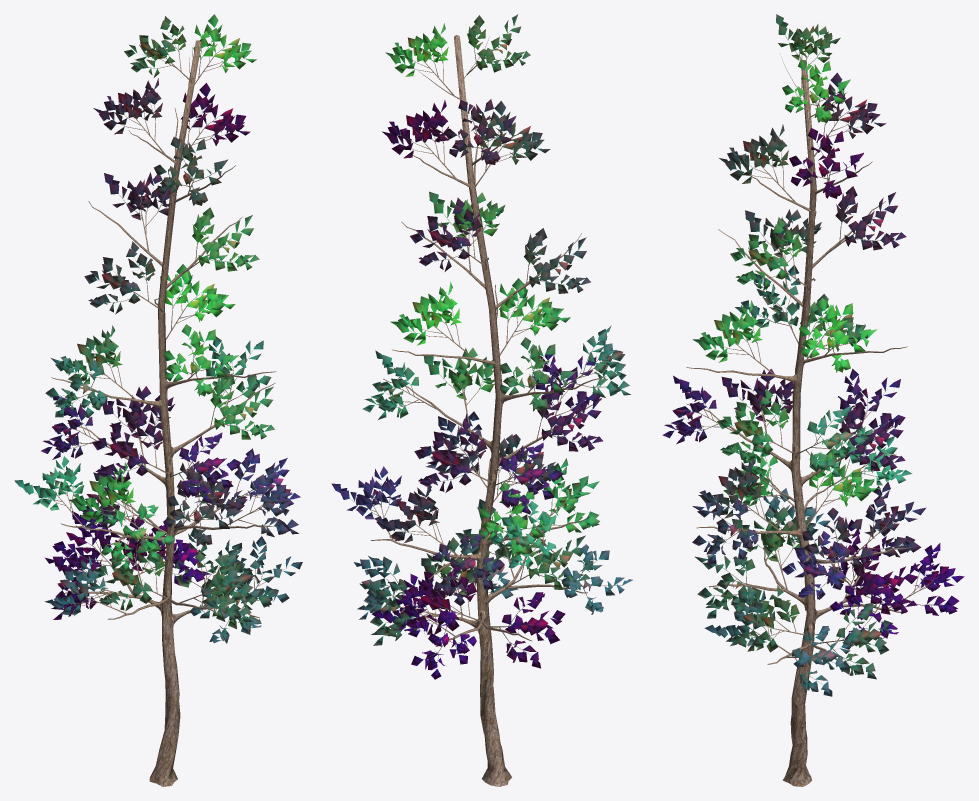
Rendered from DM.Tree.Maple.05.fbx.
3 views of the same model, side by side, from view 1: azimuth 30°, elevation 25°; view 2: azimuth 150°, elevation 25°; view 3: azimuth 270°, elevation 25° (orthographic).
Parts seen in each view (by area): view 1: Tree_1, Tree_0; view 2: Tree_1, Tree_0; view 3: Tree_1, Tree_0.
Part boxes in pixels (left/top/right/bottom): Tree_1: left=14, top=14, right=302, bottom=643; Tree_0: left=35, top=31, right=286, bottom=786; Tree_1: left=331, top=14, right=632, bottom=679; Tree_0: left=350, top=30, right=622, bottom=786; Tree_1: left=662, top=14, right=964, bottom=696; Tree_0: left=682, top=35, right=952, bottom=786.
Bounding box in the file's own units: 352 × 948 × 342.
1 material, 1 textured.
